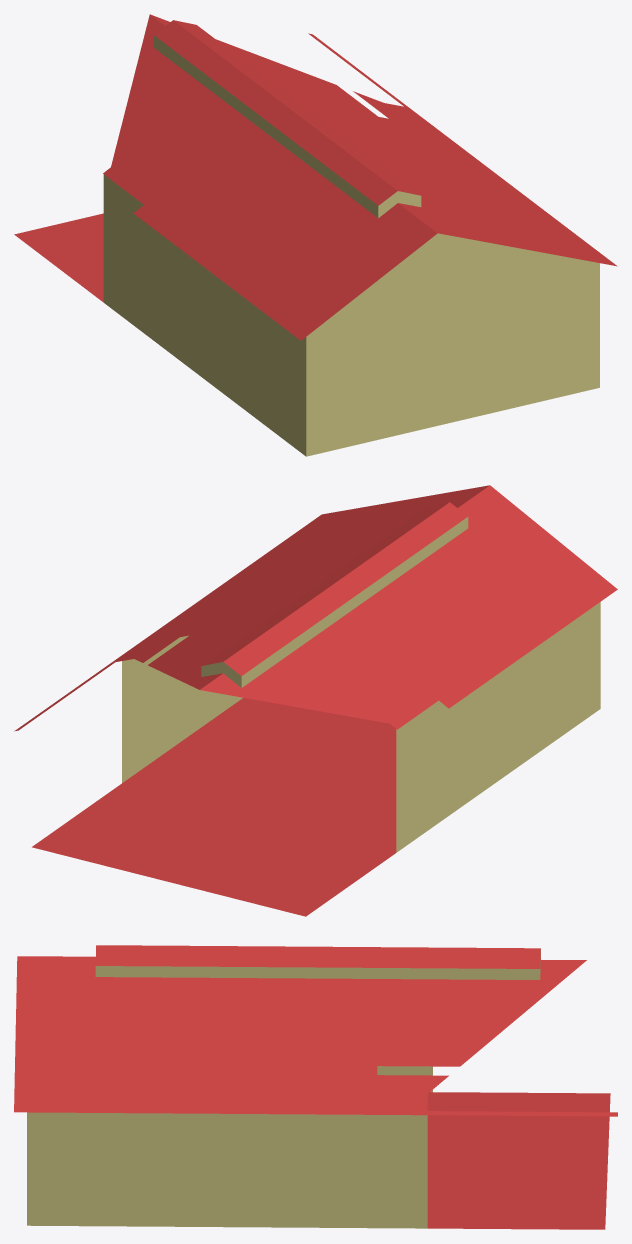
The picture shows the model from 3 angles, top to bottom: view 1: azimuth 30°, elevation 25°; view 2: azimuth 150°, elevation 25°; view 3: azimuth 270°, elevation 25°; orthographic projection. The views are drawn at different scales.
Size of the model in its own units: 20.92 by 35.26 by 13.06.
